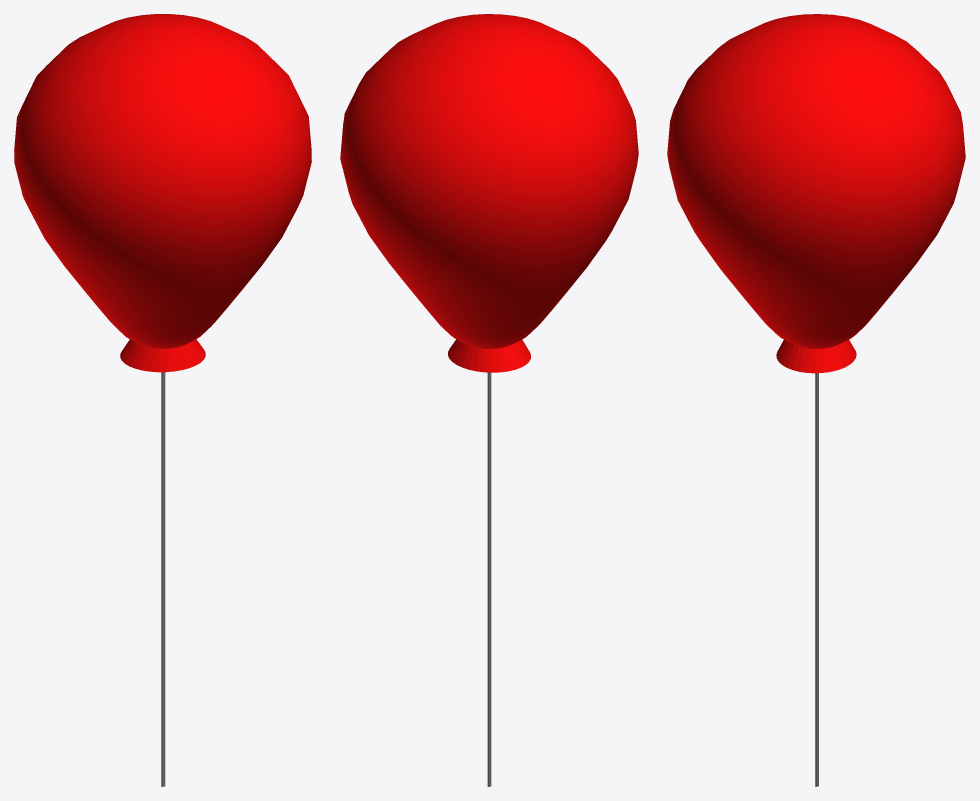
Rendered from Globo.fbx.
3 renders of one model, left to right at view 1: azimuth 30°, elevation 25°; view 2: azimuth 150°, elevation 25°; view 3: azimuth 270°, elevation 25°, orthographic.
Parts seen in each view (by area): view 1: Sphere001, Cylinder003; view 2: Sphere001, Cylinder003; view 3: Sphere001, Cylinder003.
Boxes of the visible parts, x1,y1,x2,y2 form: Sphere001: [14, 14, 311, 372]; Cylinder003: [161, 372, 165, 786]; Sphere001: [340, 14, 638, 372]; Cylinder003: [487, 372, 491, 786]; Sphere001: [667, 14, 965, 373]; Cylinder003: [815, 373, 818, 786].
Bounding box in the file's own units: 6.29 × 17.61 × 6.29.
